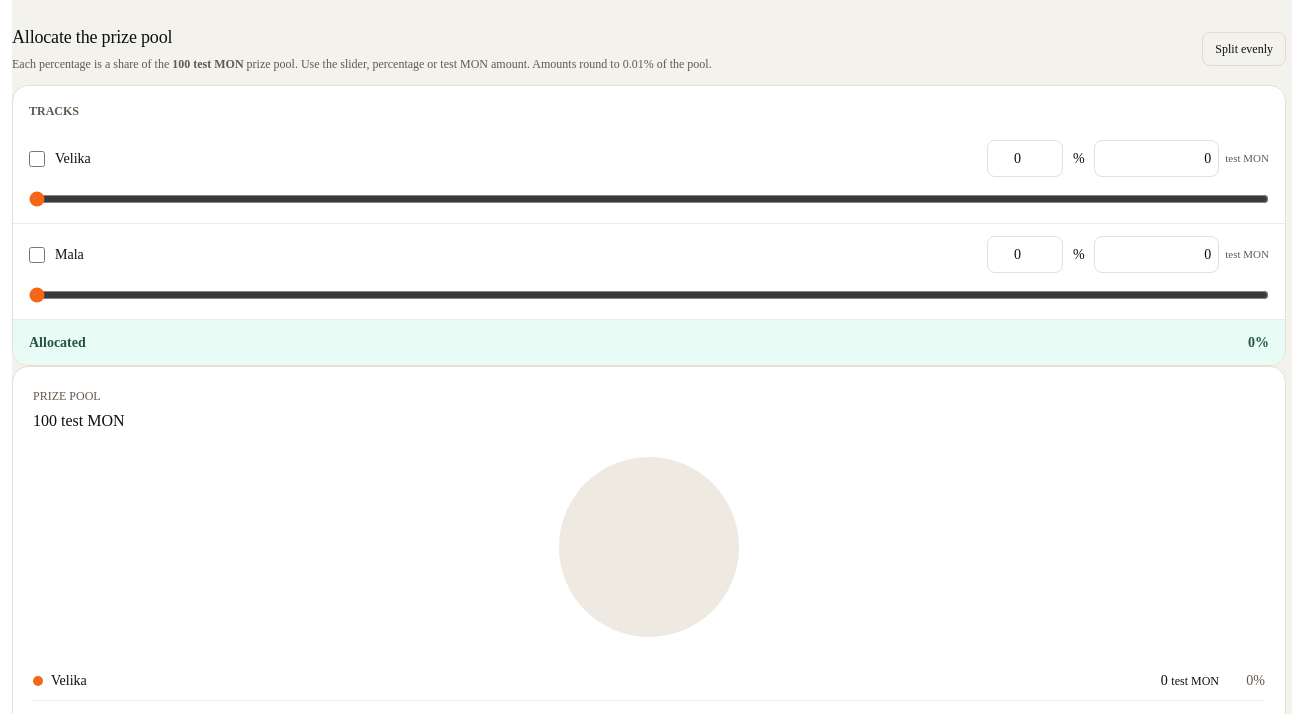
Test case: links sliders, percentages and test MON while preserving the pool and category rules
Click the button "Split evenly".
click(1244, 48)  # box [1202,32,1286,66]
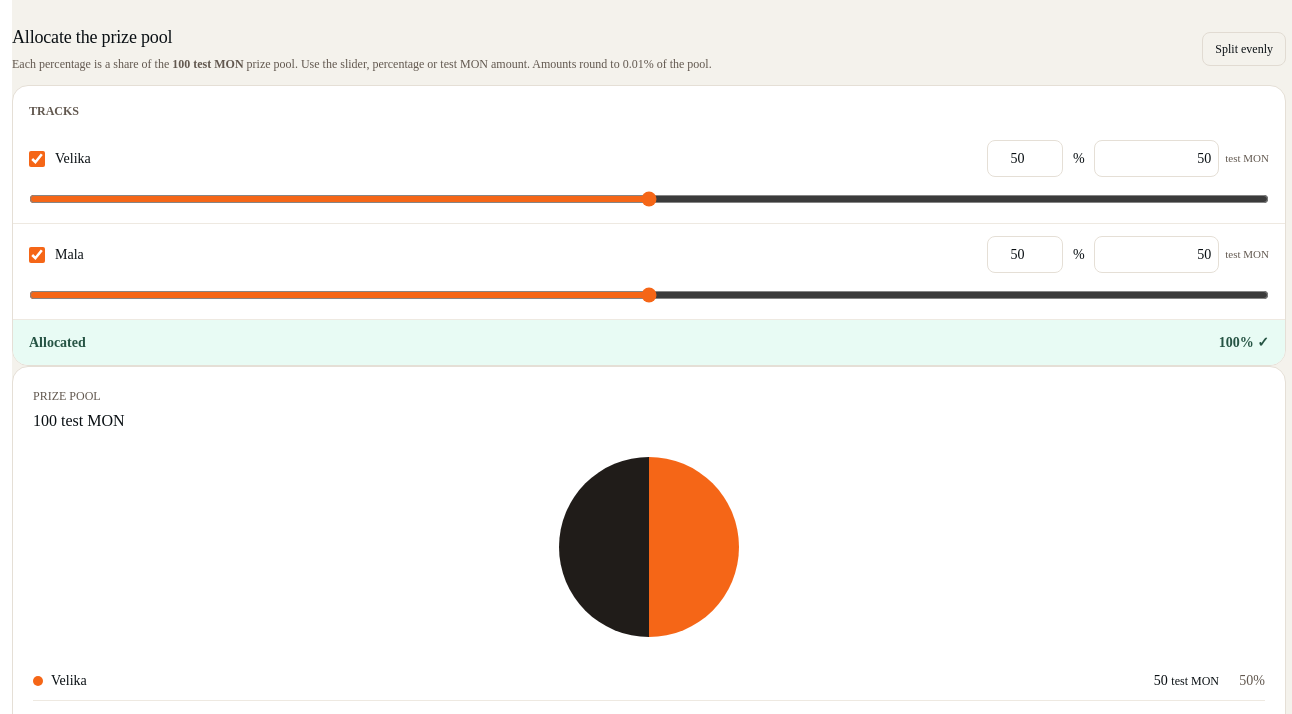
Set the slider named "Velika prize share" to "7000" at x=894, y=199, box [29,187,1269,211]
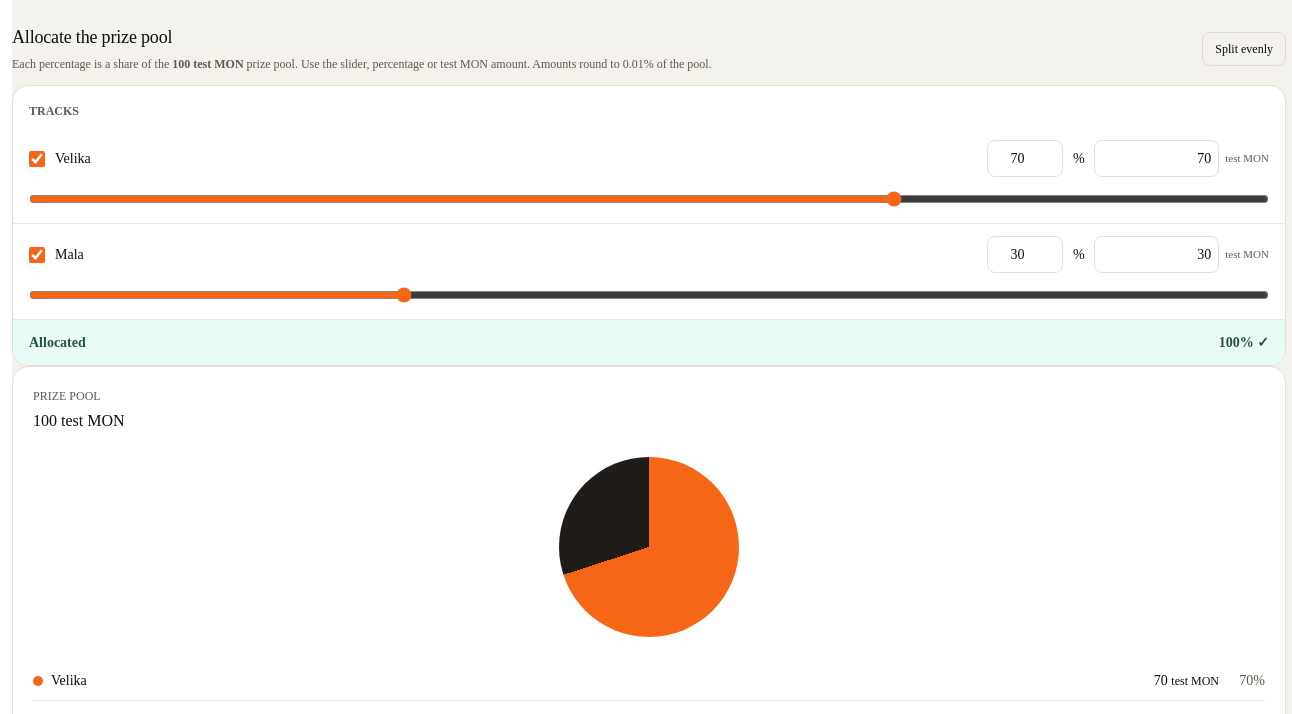
Expected: the number field named "Velika %" holds "70", [987,140,1063,177]
Expected: the field named "Velika · test MON" holds "70", [1094,140,1219,177]
Replace the text in the field named "Mala · test MON" with "45.125" at x=1157, y=254, box [1094,236,1219,273]
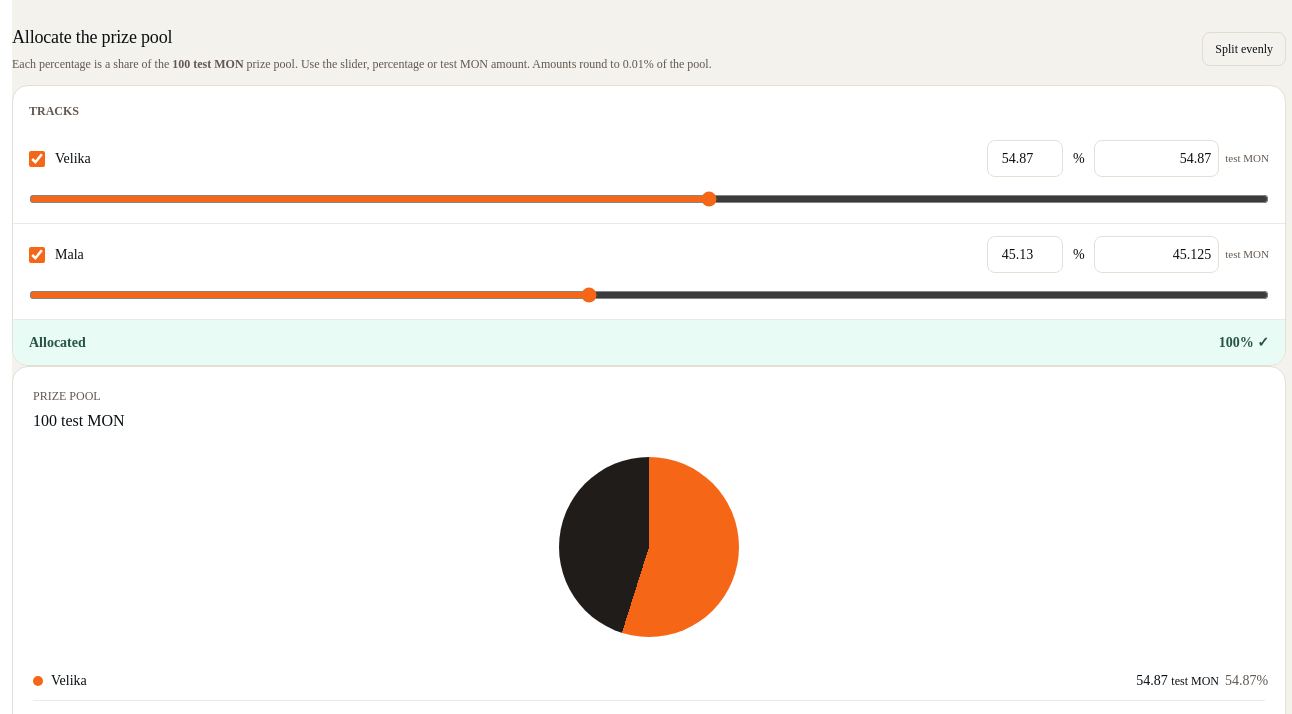
Expected: the slider named "Mala prize share" holds "4513", [29,283,1269,307]
Expected: the number field named "Velika %" holds "54.87", [987,140,1063,177]
Leave the field named "Mala · test MON", box [1094,236,1219,273]
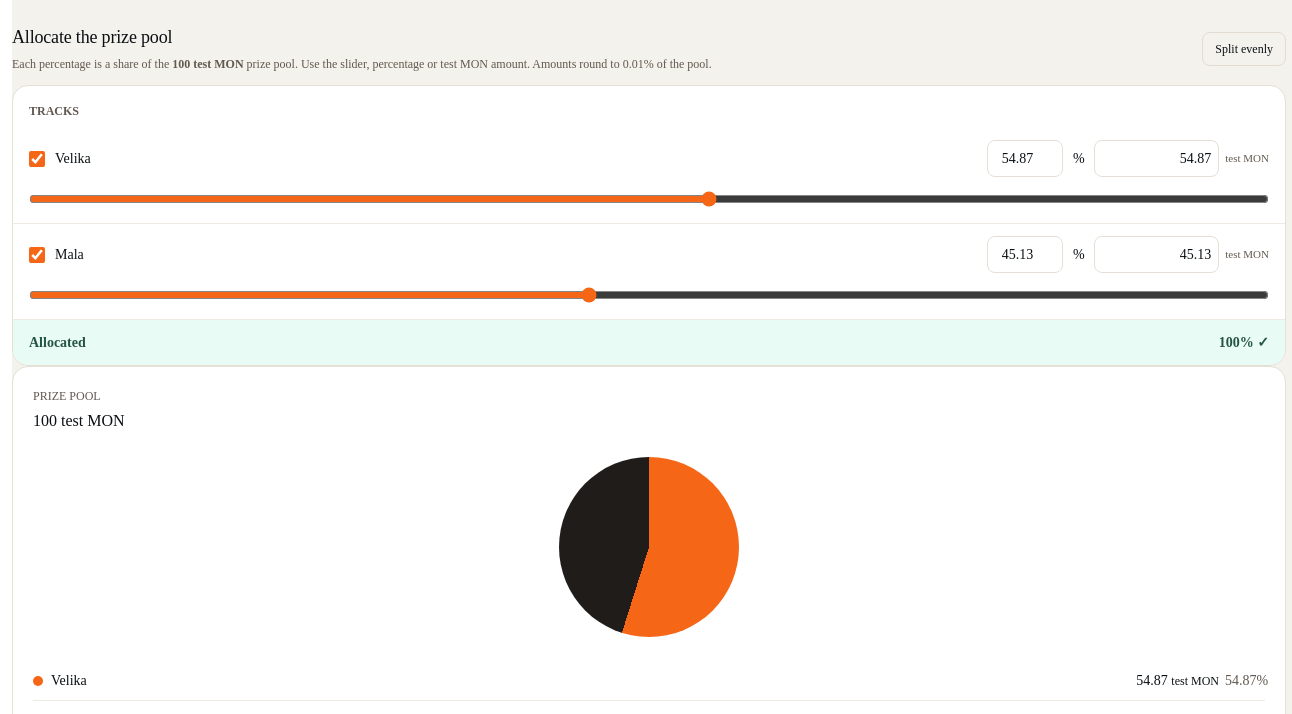
Expected: the field named "Mala · test MON" holds "45.13", [1094,236,1219,273]
